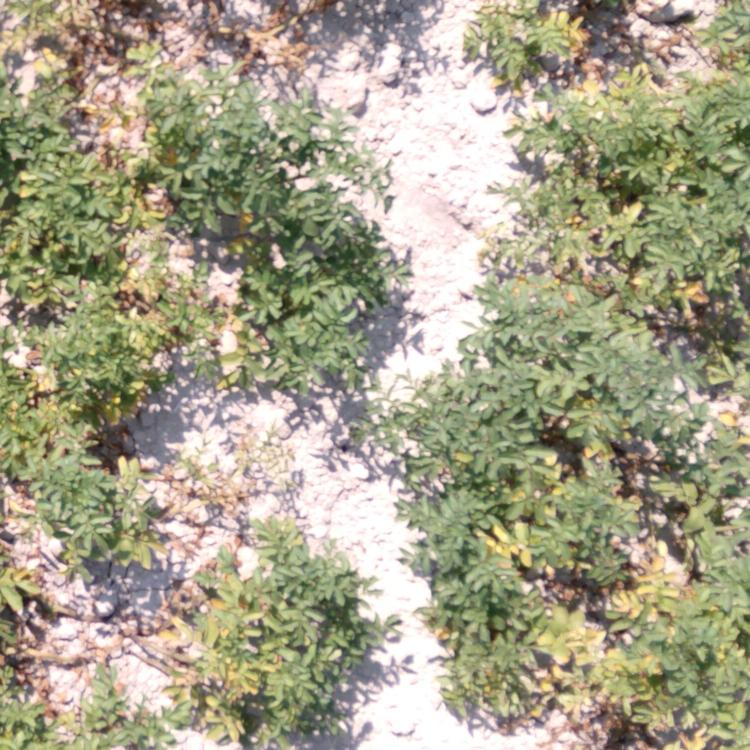healthy: (193, 86, 371, 205), (395, 316, 515, 465), (282, 208, 390, 371), (348, 402, 397, 460)
stressed: (484, 81, 750, 313), (578, 463, 746, 750), (419, 463, 576, 730), (154, 563, 368, 749), (1, 87, 187, 270), (520, 314, 738, 465), (3, 271, 187, 420), (1, 427, 157, 569), (189, 208, 281, 392), (1, 3, 173, 88), (454, 1, 597, 80), (1, 680, 156, 747), (216, 472, 328, 564), (181, 7, 300, 69), (648, 3, 750, 75), (1, 573, 58, 675)
